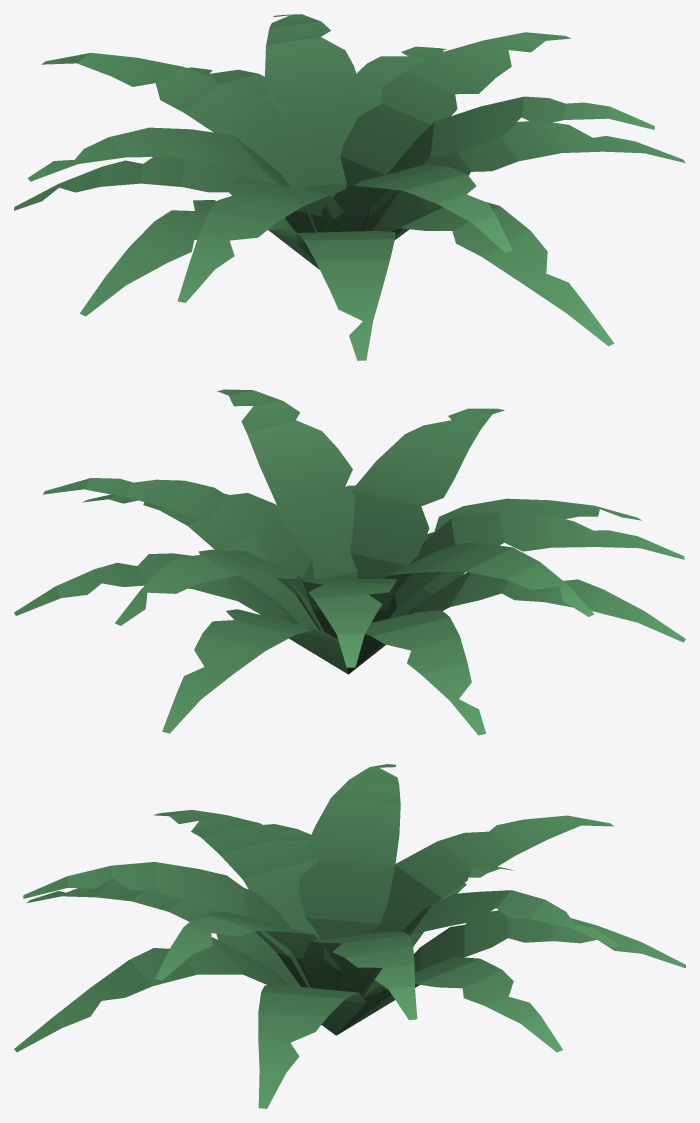
The model's file is DarkDoubleFern.fbx.
3 views of the same model, one above another, from view 1: azimuth 30°, elevation 25°; view 2: azimuth 150°, elevation 25°; view 3: azimuth 270°, elevation 25° (orthographic). The views are drawn at different scales.
Visible parts, largest first — view 1: DarkDoubleFern; view 2: DarkDoubleFern; view 3: DarkDoubleFern.
Part boxes in pixels (x1,y1,x2,y2): DarkDoubleFern: (14,14,685,360); DarkDoubleFern: (14,389,685,735); DarkDoubleFern: (14,764,685,1108).
Size of the model in its own units: 433 by 127 by 434.
